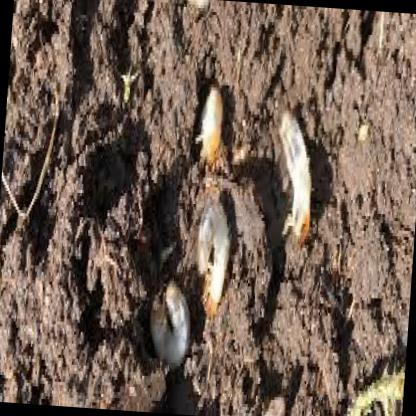root grubs: (197, 199, 231, 315), (148, 283, 192, 372)
